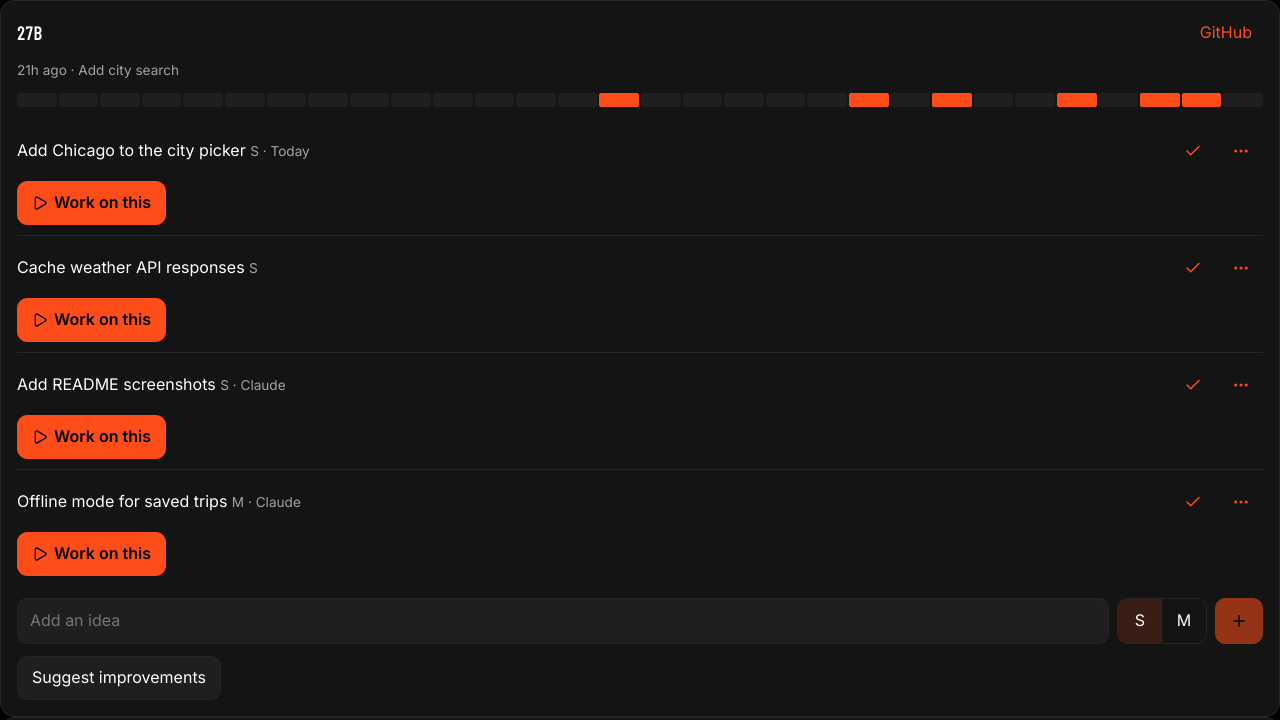
Test: ProjectsList › Work on this marks the idea in progress and queues one request, even on a double tap
Double-click the button with aria-label "Work on this: Cache weather API responses".
double_click(92, 320)  # box [17, 298, 166, 342]
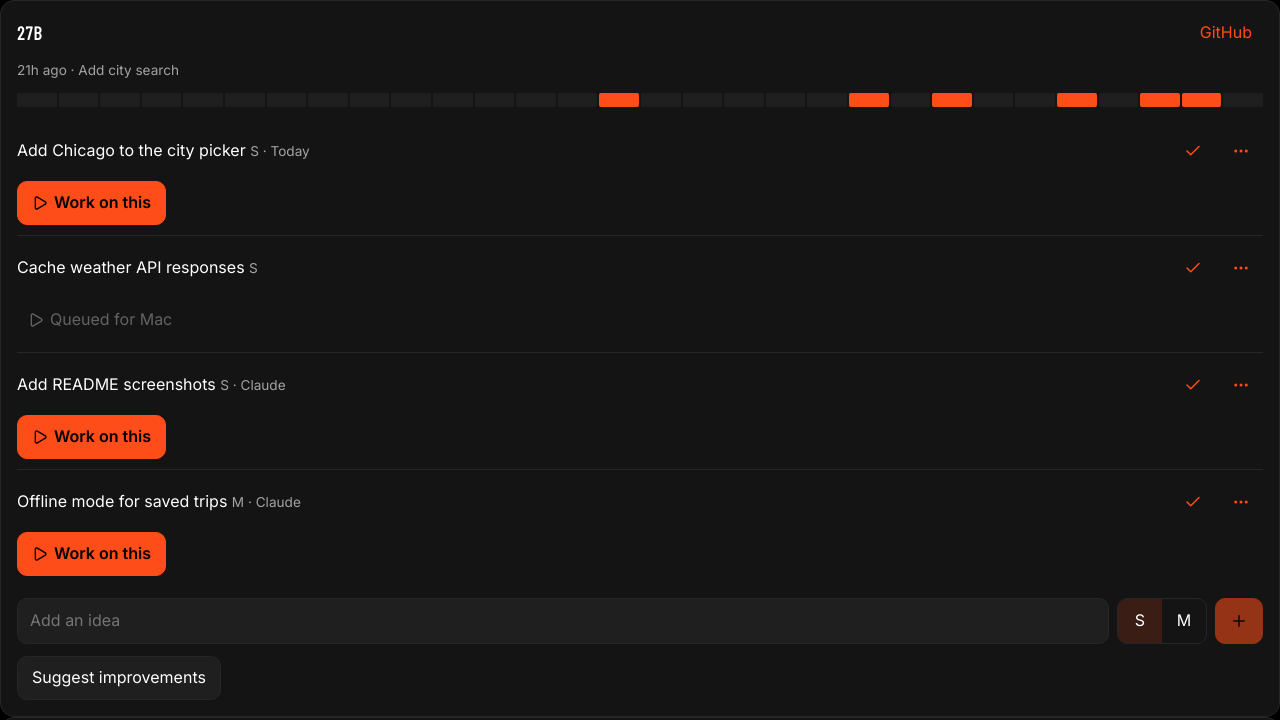
expect the button with aria-label "Queued for Mac: Cache weather API responses" is disabled: met, box [17, 298, 183, 342]
